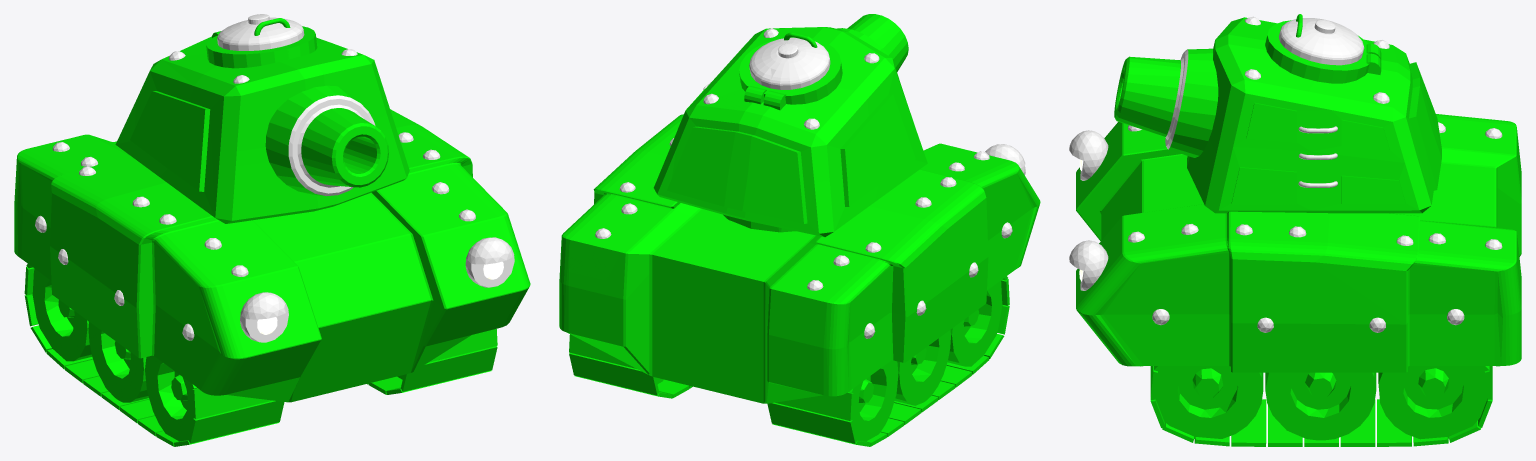
Rendered from tank_green.gltf.
The picture shows the model from 3 angles, left to right: view 1: azimuth 30°, elevation 25°; view 2: azimuth 150°, elevation 25°; view 3: azimuth 270°, elevation 25°; orthographic projection. The views are drawn at different scales.
Visible parts, largest first — view 1: Tank_Green, Turret.014, Canon.014, Tracks.018, Wheels.024, Entrance.014, Lights.008, Bolts.007; view 2: Tank_Green, Turret.014, Tracks.018, Wheels.024, Entrance.014, Bolts.007, Canon.014, Lights.008, Bolts.008; view 3: Tank_Green, Turret.014, Wheels.024, Canon.014, Entrance.014, Tracks.018, Lights.008, Bolts.007, Ladder.012, Bolts.008.
Boxes of the visible parts, left/top/right/bottom form: Tank_Green: left=14, top=109, right=530, bottom=402; Turret.014: left=115, top=36, right=409, bottom=223; Canon.014: left=265, top=85, right=388, bottom=196; Tracks.018: left=24, top=264, right=497, bottom=446; Wheels.024: left=32, top=269, right=403, bottom=441; Entrance.014: left=206, top=14, right=317, bottom=68; Lights.008: left=240, top=237, right=514, bottom=342; Bolts.007: left=35, top=132, right=475, bottom=340; Tank_Green: left=559, top=114, right=1040, bottom=403; Turret.014: left=653, top=27, right=927, bottom=237; Tracks.018: left=569, top=276, right=1009, bottom=446; Wheels.024: left=656, top=280, right=1002, bottom=441; Entrance.014: left=739, top=32, right=842, bottom=110; Bolts.007: left=595, top=138, right=1012, bottom=338; Canon.014: left=837, top=14, right=908, bottom=71; Lights.008: left=985, top=144, right=1025, bottom=175; Bolts.008: left=703, top=28, right=879, bottom=129; Tank_Green: left=1076, top=114, right=1521, bottom=372; Turret.014: left=1187, top=17, right=1441, bottom=213; Wheels.024: left=1155, top=366, right=1487, bottom=440; Canon.014: left=1114, top=48, right=1218, bottom=157; Entrance.014: left=1265, top=14, right=1381, bottom=83; Tracks.018: left=1150, top=366, right=1492, bottom=446; Lights.008: left=1069, top=130, right=1108, bottom=290; Bolts.007: left=1128, top=122, right=1502, bottom=332; Ladder.012: left=1298, top=126, right=1337, bottom=187; Bolts.008: left=1244, top=16, right=1389, bottom=103.
Size of the model in its own units: 1.55 by 1.51 by 1.75.
